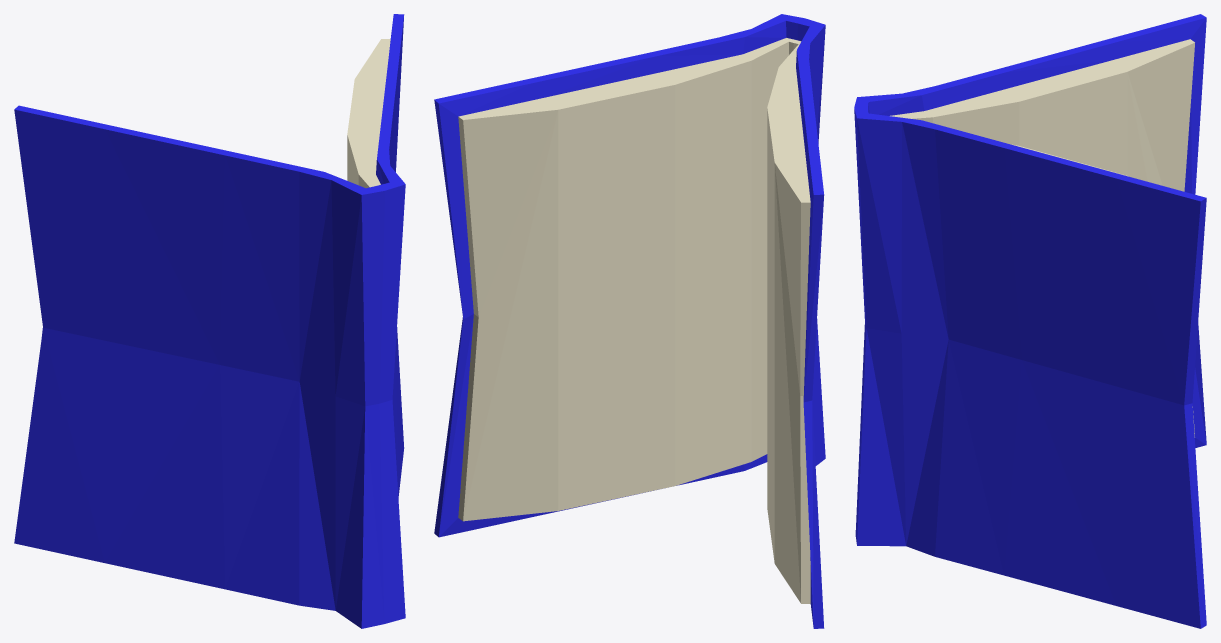
Rendered from half_open_book_b.fbx.
3 views of the same model, side by side, from view 1: azimuth 30°, elevation 25°; view 2: azimuth 150°, elevation 25°; view 3: azimuth 270°, elevation 25° (orthographic).
Visible parts, largest first — view 1: Box001; view 2: Box001; view 3: Box001.
Boxes of the visible parts, <box> form: Box001: <box>14,14,405,628</box>; Box001: <box>434,14,825,628</box>; Box001: <box>854,14,1206,628</box>.
Bounding box in the file's own units: 63.95 × 68 × 50.83.
